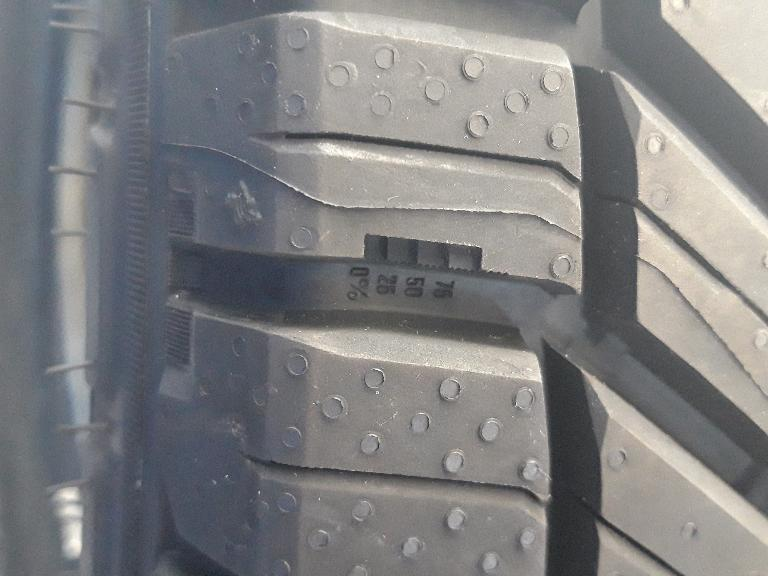temoin:100: (361, 231, 510, 283)
